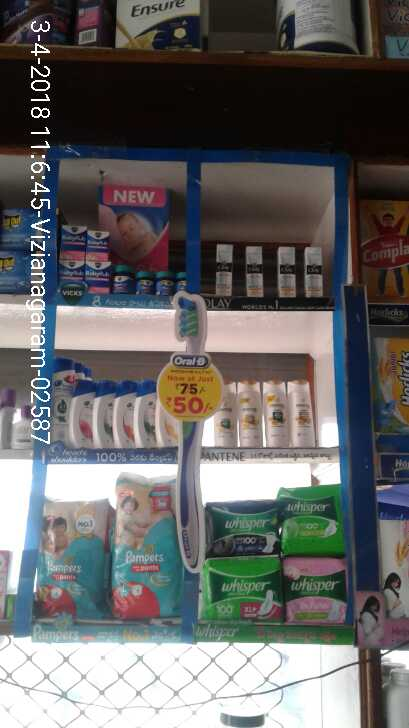vicks: (59, 224, 186, 292)
